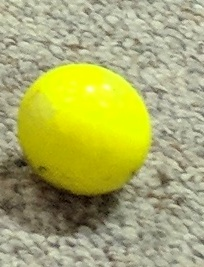ball: (19, 64, 151, 197)
